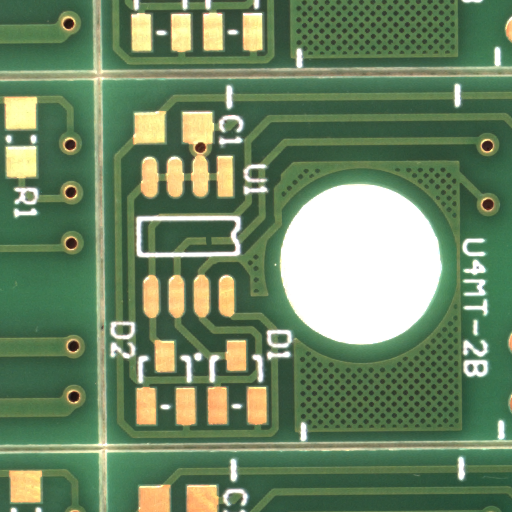Open_circuit: (207, 240, 219, 251)
